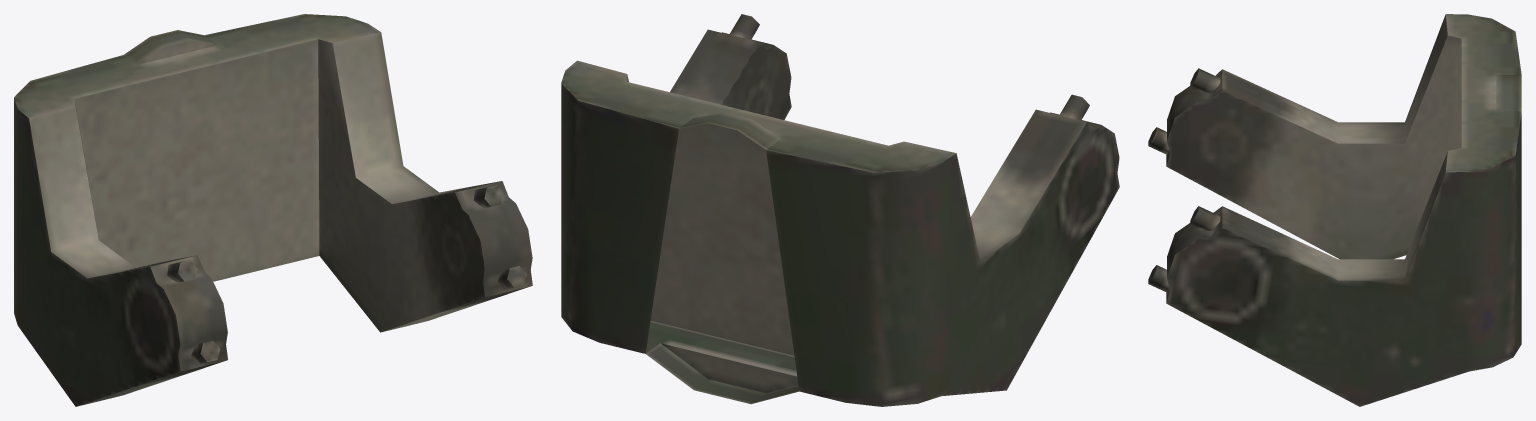
The model's file is Turret_01.glb.
3 views of the same model, side by side, from view 1: azimuth 30°, elevation 25°; view 2: azimuth 150°, elevation 25°; view 3: azimuth 270°, elevation 25° (orthographic). The views are drawn at different scales.
Parts seen in each view (by area): view 1: set_0_group_0; view 2: set_0_group_0; view 3: set_0_group_0.
Part boxes in pixels (<box>): set_0_group_0: <box>14,14,532,406</box>; set_0_group_0: <box>561,14,1119,406</box>; set_0_group_0: <box>1148,14,1521,406</box>.
Bounding box in the file's own units: 0.37 × 0.2673 × 0.3687.
1 material, 1 textured.
